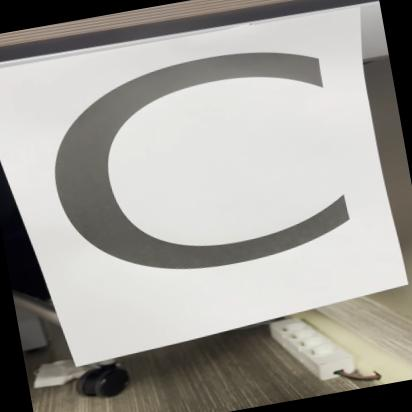seat: (0, 0, 412, 372)
